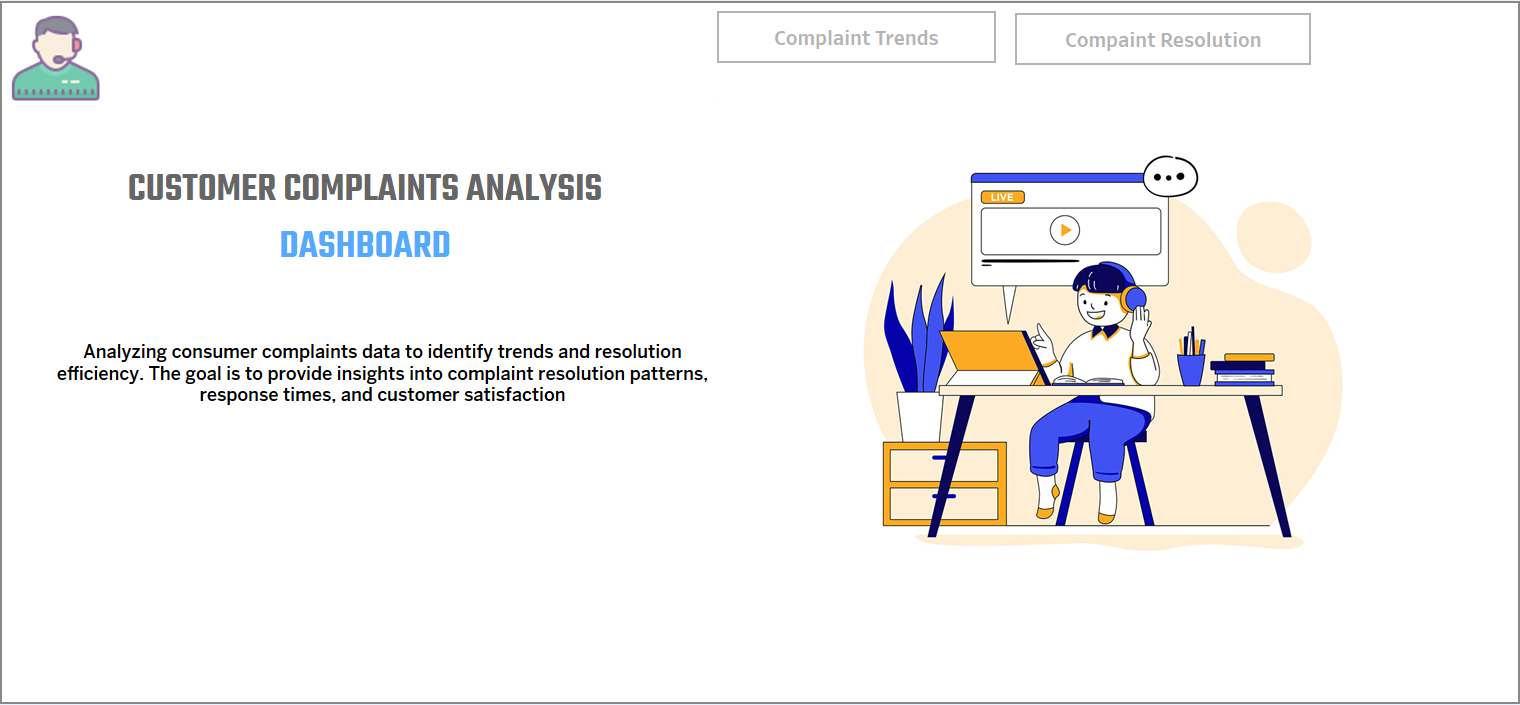

The page's visual inventory and layout, read from the dashboard file:
{"tool":"tableau","page":{"name":"Landing Page","canvas":[1800,1000],"ordinal":2},"visuals":[{"type":"blank","box":[75,86,1520,703]},{"type":"image","param":"C:/Users/khobr/Downloads/icons8-online-support-64.png","box":[84,95,117,94]},{"type":"dashboard-object","box":[792,96,279,52]},{"type":"dashboard-object","box":[1090,98,296,52]},{"type":"image","param":"C:/Users/khobr/Downloads/8e9b7d117059887.606e70f46aca9.jpg","box":[792,181,772,560]},{"type":"text","box":[107,230,666,149]},{"type":"text","box":[117,358,681,202]}]}

Visuals, with their boxes on the page's 1800x1000 design canvas (x1, y1, x2, y2). These are canvas units, not pixel positions in the 1520x705 screenshot, which may show the page scaled, cropped or inside an application window:
blank: [left=75, top=86, right=1595, bottom=789]
image: [left=84, top=95, right=201, bottom=189]
dashboard-object: [left=792, top=96, right=1071, bottom=148]
dashboard-object: [left=1090, top=98, right=1386, bottom=150]
image: [left=792, top=181, right=1564, bottom=741]
text: [left=107, top=230, right=773, bottom=379]
text: [left=117, top=358, right=798, bottom=560]
